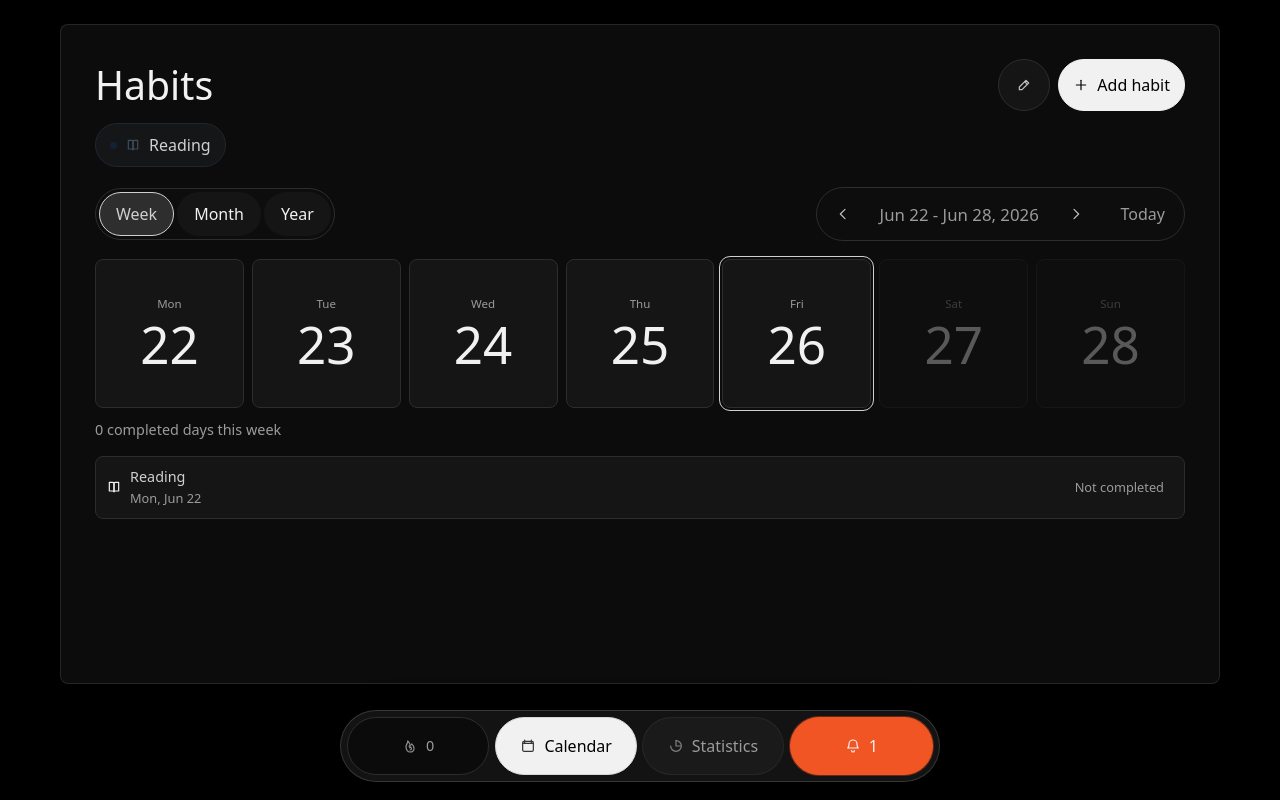
Scenario: Habit Grid app › loads an existing custom color while editing a habit
The image size is (1280, 800).
Click the button named "Edit habit" at (1024, 85), box left=998, top=59, right=1050, bottom=111
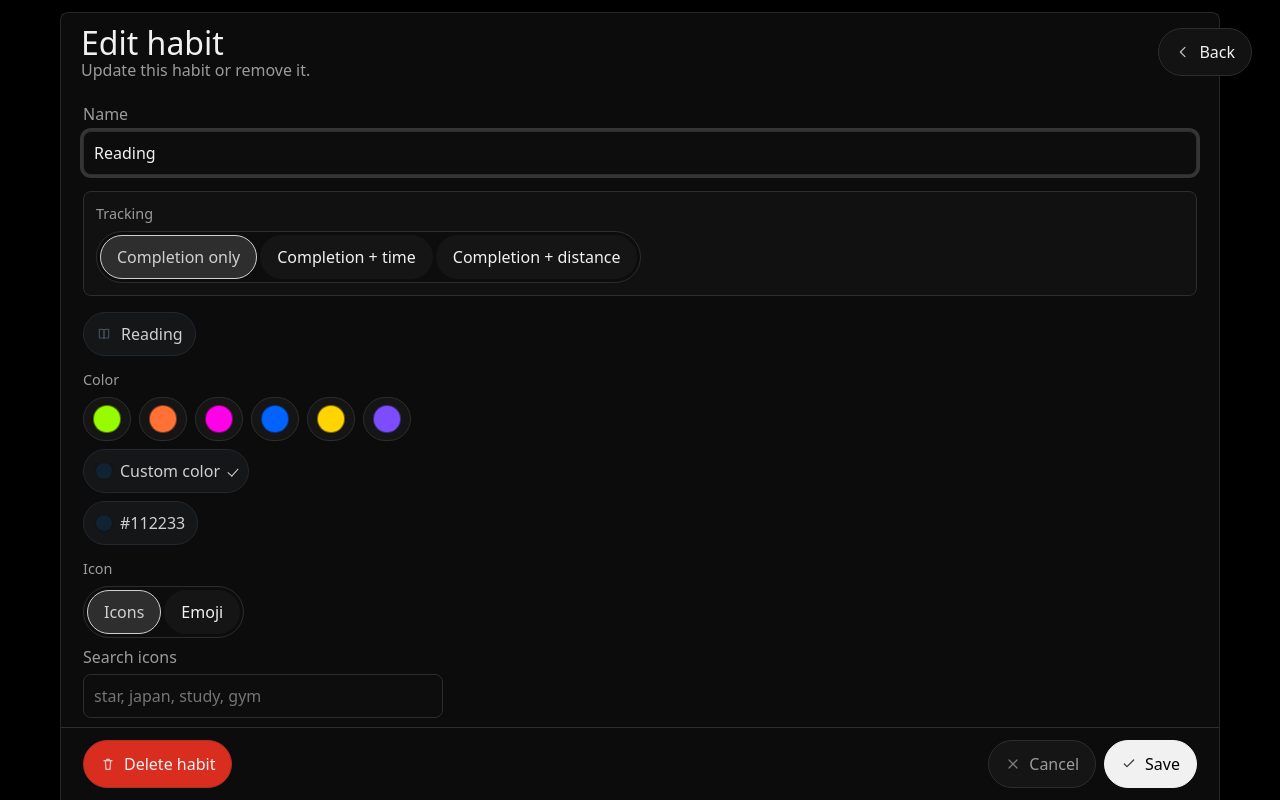
Result: the heading "Edit habit" is shown at left=81, top=21, right=224, bottom=64
Result: the button named "Current custom color #112233" is shown at left=83, top=501, right=198, bottom=545
Click the button "Custom color" at (166, 471), box left=83, top=449, right=249, bottom=493
(page scrolled)
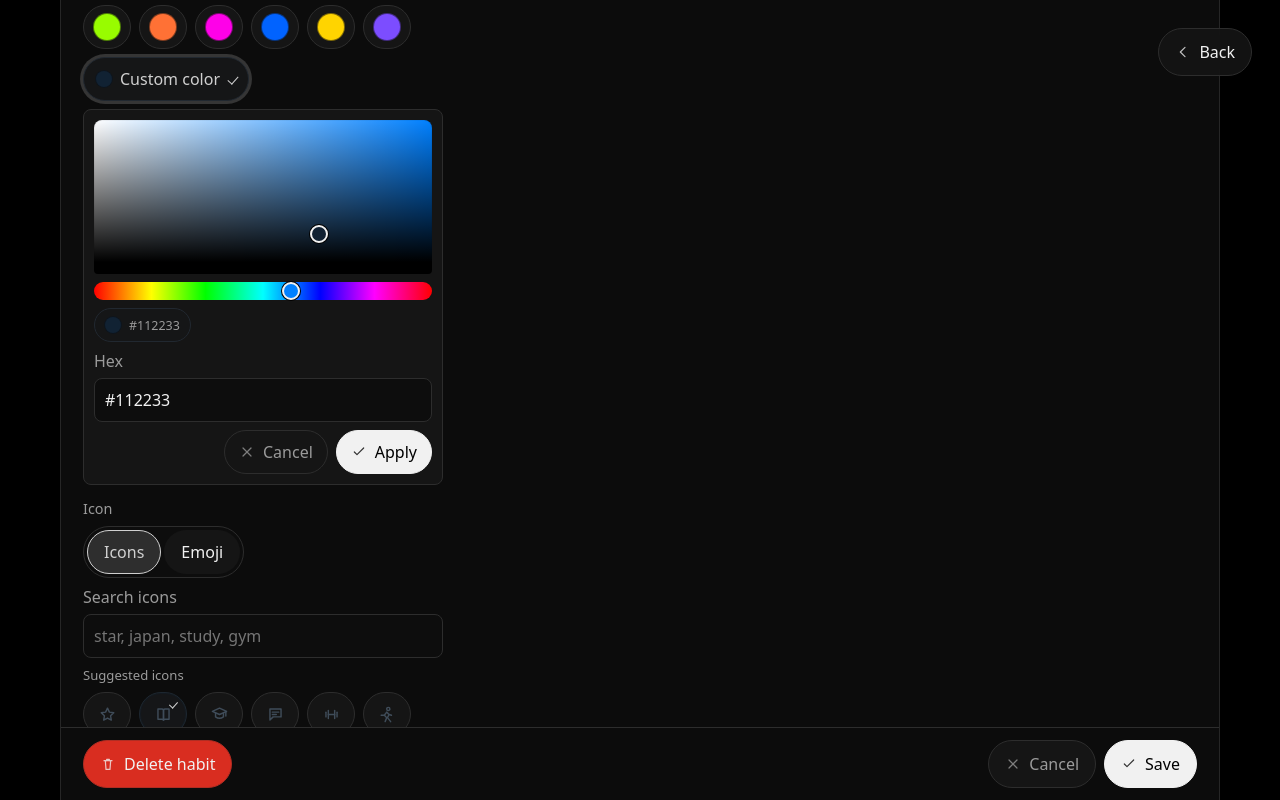
Result: the field labelled "Hex" holds "#112233" at left=94, top=378, right=432, bottom=422
